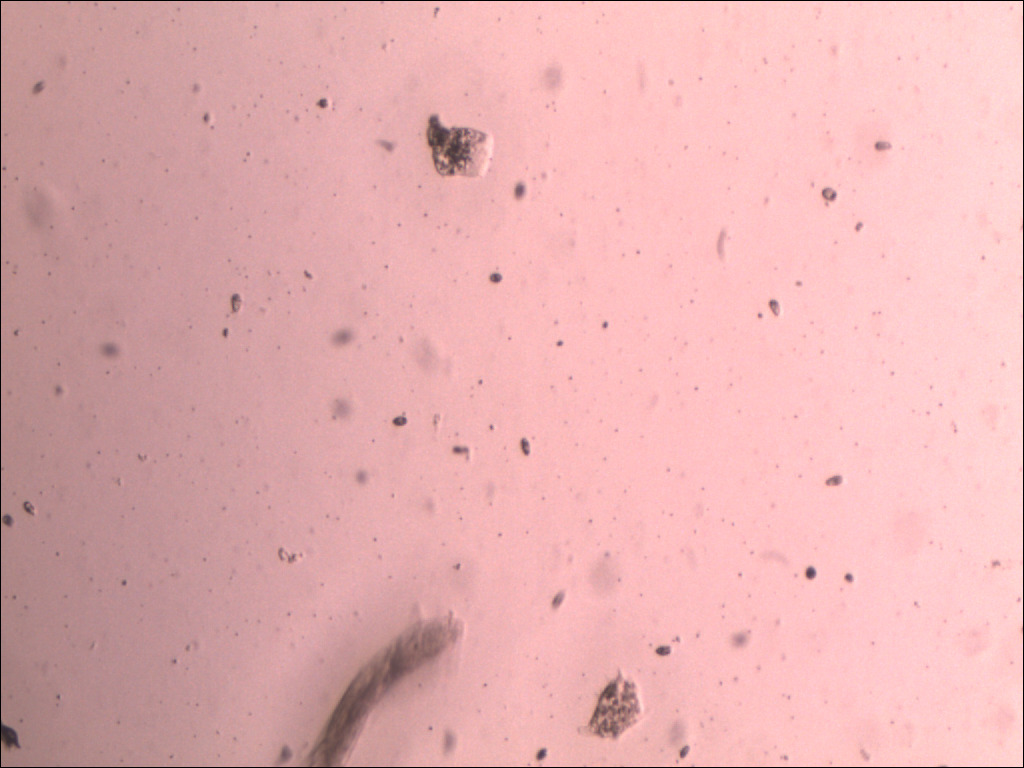amoeba: (575, 661, 657, 749), (419, 107, 505, 183)
